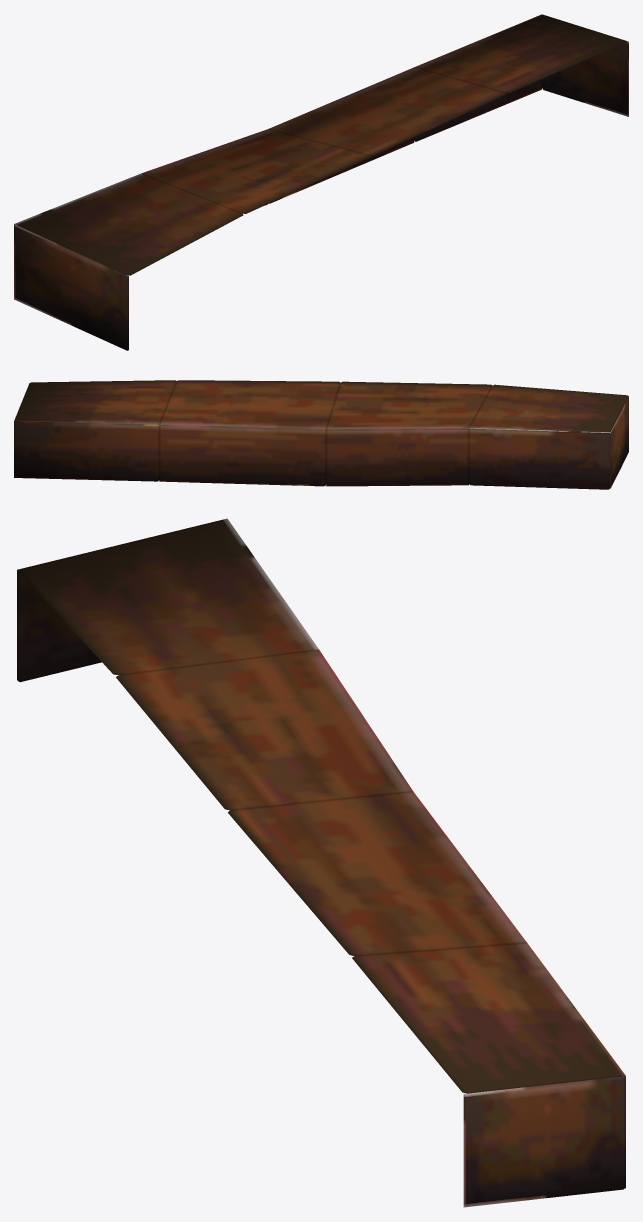
The picture shows the model from 3 angles, top to bottom: view 1: azimuth 30°, elevation 25°; view 2: azimuth 150°, elevation 25°; view 3: azimuth 270°, elevation 25°; orthographic projection. The views are drawn at different scales.
Visible parts, largest first — view 1: T1L4M004_4; view 2: T1L4M004_4; view 3: T1L4M004_4.
Boxes of the visible parts, x1,y1,x2,y2 form: T1L4M004_4: (14, 14, 628, 350); T1L4M004_4: (14, 380, 628, 489); T1L4M004_4: (17, 518, 625, 1207).
Bounding box in the file's own units: 5.15 × 0.8779 × 2.6.
